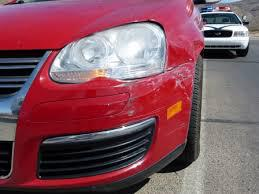front-bumper-dent: (80, 63, 197, 175)
